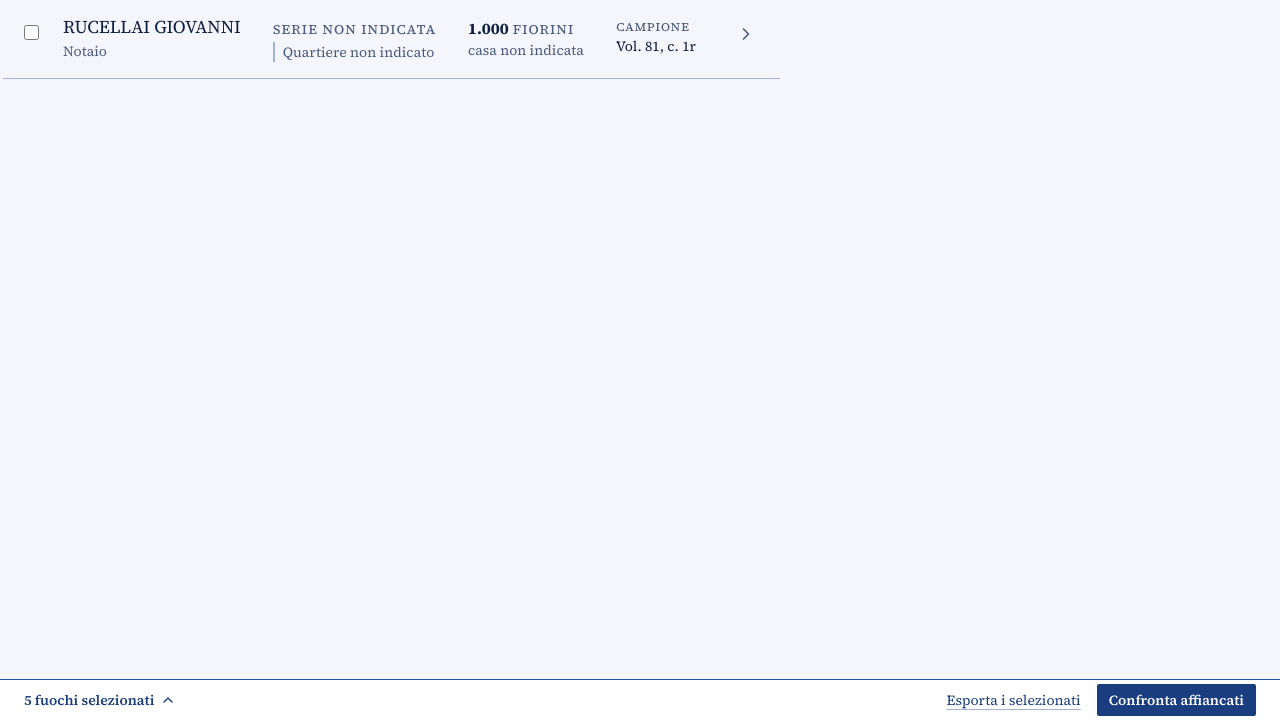
Test: confronto tra fuochi › selezione fino a 500; il confronto affiancato solo da 2 a 5 fuochi
Expected: the button "Confronta affiancati" is enabled, [1097,684,1256,716]
Click the checkbox named "Seleziona RUCELLAI GIOVANNI".
click(31, 32)  # box [24,24,38,40]
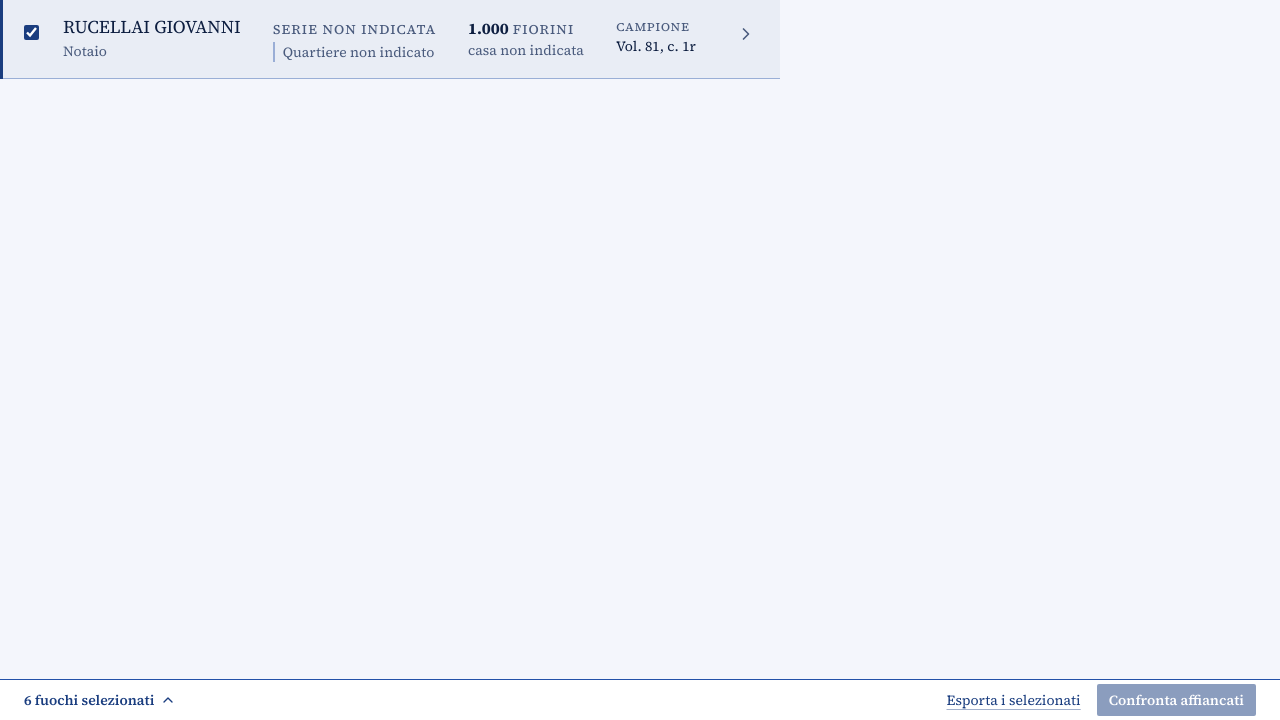
Expected: the button "6 fuochi selezionati" is shown
Click the button "6 fuochi selezionati".
click(100, 700)  # box [24,682,176,718]
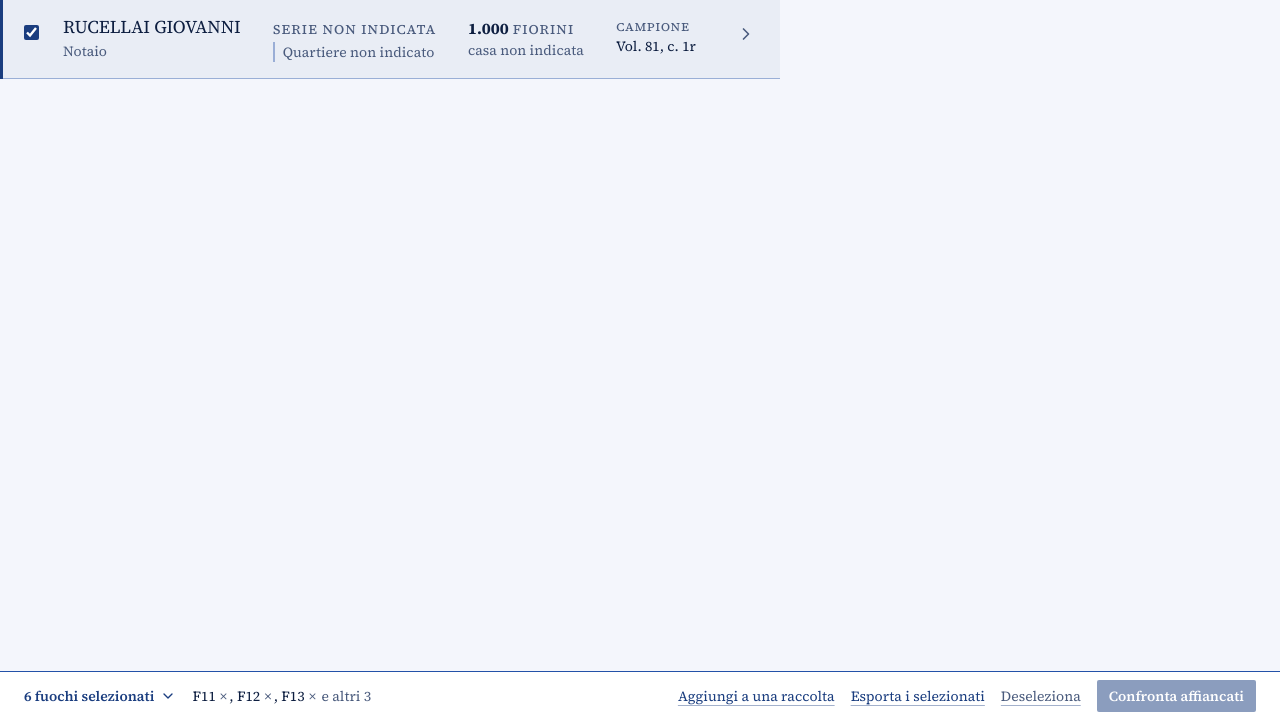
Expected: the button "Confronta affiancati" is disabled, [1097,680,1256,712]
Expected: the text "e altri 3" is shown, [318,686,371,706]
